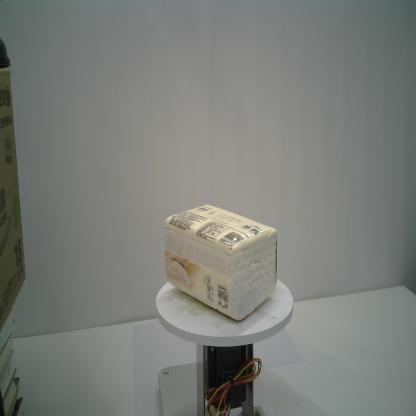Tissue: (163, 202, 279, 322)
